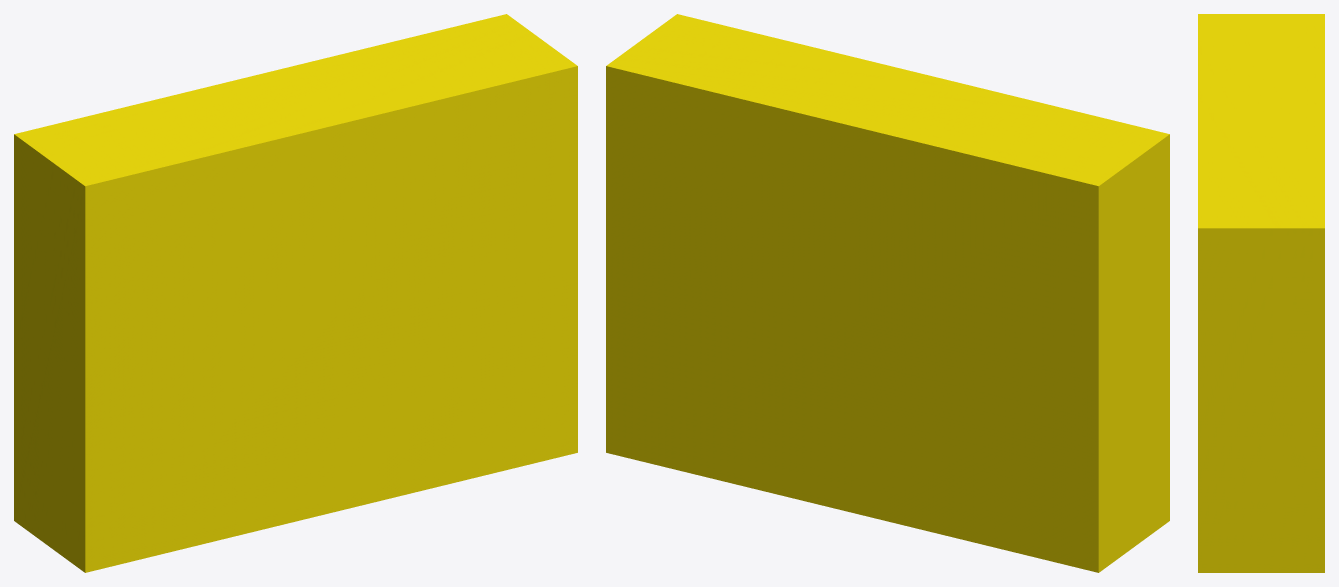
The model's file is bin_stack_yellow.dae.
The picture shows the model from 3 angles, left to right: view 1: azimuth 30°, elevation 25°; view 2: azimuth 150°, elevation 25°; view 3: azimuth 270°, elevation 25°; orthographic projection. The views are drawn at different scales.
Parts seen in each view (by area): view 1: node; view 2: node; view 3: node.
Part boxes in pixels (x1,y1,x2,y2): node: [14, 14, 577, 572]; node: [606, 14, 1169, 572]; node: [1198, 14, 1324, 572].
Bounding box in the file's own units: 0.4 × 0.3 × 0.1.
1 material, 1 textured.
